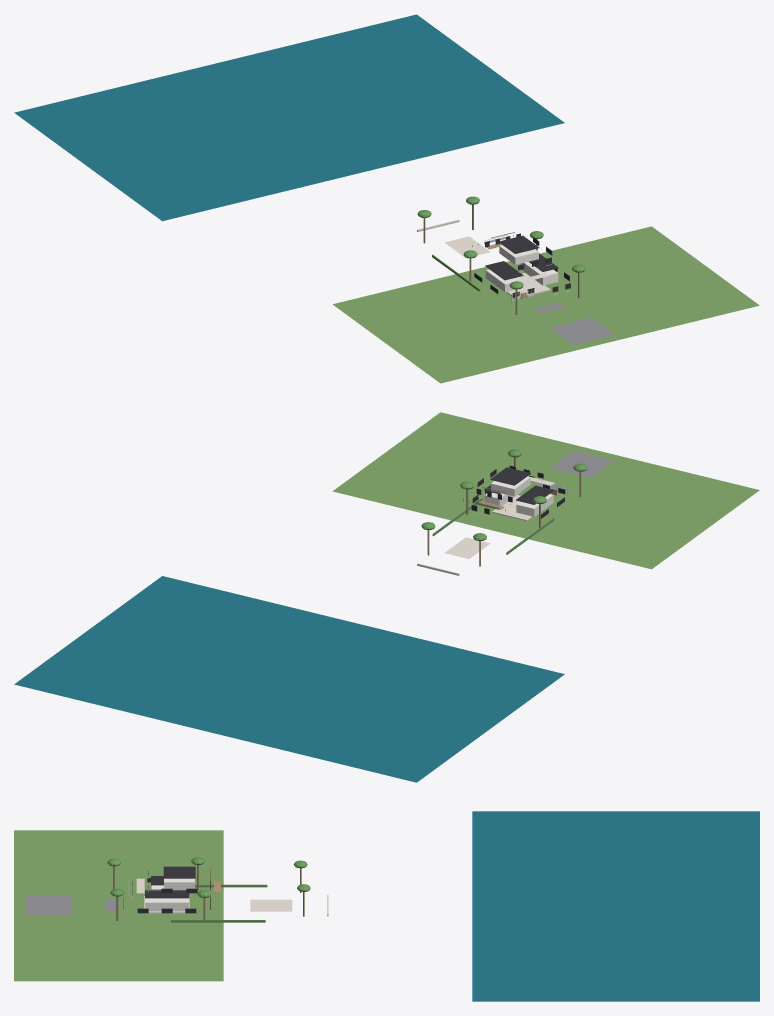
The model's file is 8220_hawthorne_detailed.glb.
3 views of the same model, one above another, from view 1: azimuth 30°, elevation 25°; view 2: azimuth 150°, elevation 25°; view 3: azimuth 270°, elevation 25° (orthographic). The views are drawn at different scales.
Parts seen in each view (by area): view 1: bay, grass, st; view 2: bay, grass, st; view 3: bay, grass, st, rightblock, deck, fascia2, fasciaR, story2.
Boxes of the visible parts, box(x1,y1,x2,y2) form: bay: box(14, 14, 564, 221); grass: box(333, 226, 759, 383); st: box(550, 317, 614, 344); bay: box(14, 576, 564, 782); grass: box(332, 412, 759, 569); st: box(550, 450, 614, 477); bay: box(472, 811, 759, 1001); grass: box(14, 830, 223, 981); st: box(25, 896, 72, 915); rightblock: box(145, 898, 188, 911); deck: box(250, 899, 292, 911); fascia2: box(163, 866, 195, 878); fasciaR: box(145, 890, 189, 898); story2: box(164, 878, 194, 889).
Size of the model in its own units: 290 by 25.76 by 480.
